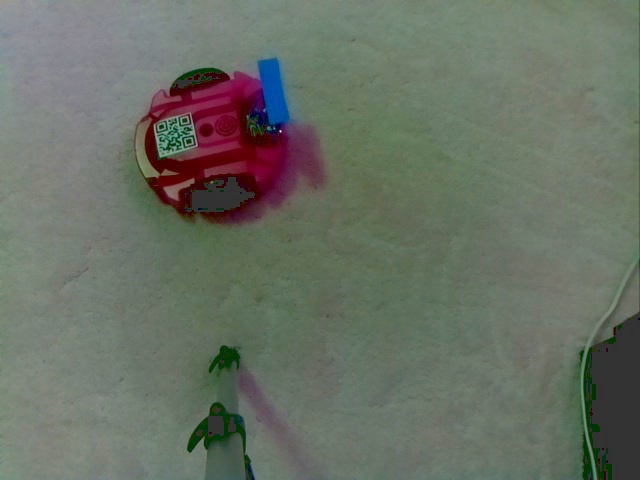board: (239, 57, 296, 141)
chassis: (129, 58, 291, 214)
